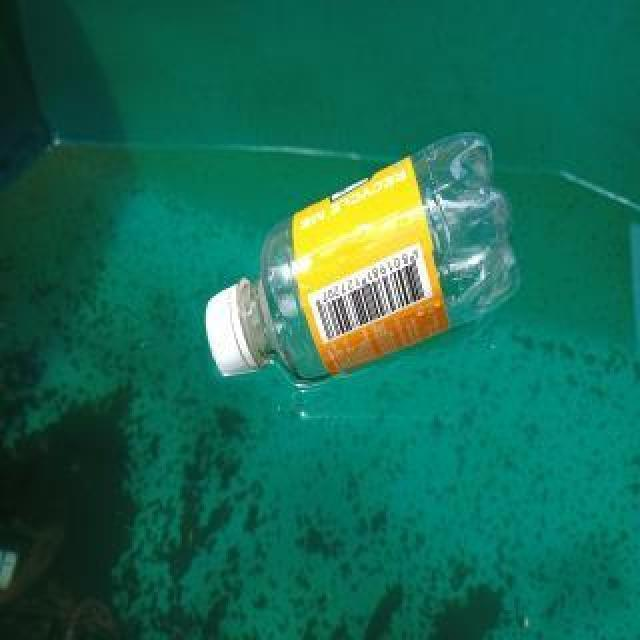bottle: (201, 127, 519, 387)
